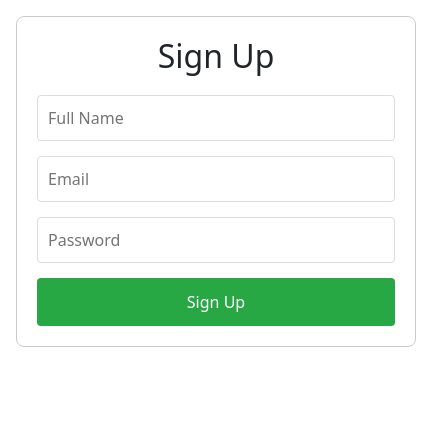
Signup Component › successfully submits form, displays success message, and redirects after timeout
In the field with placeholder "Full Name": {"x": 216, "y": 118} 37,95 -> 395,141, type "Jane Doe"
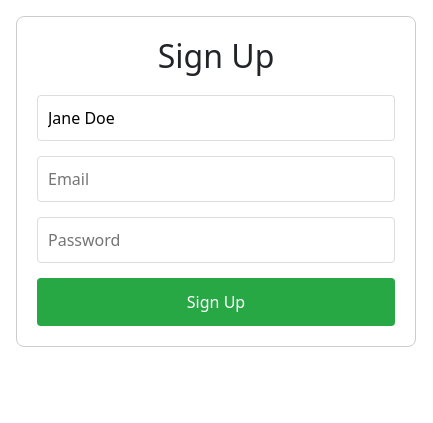
In the field with placeholder "Email": {"x": 216, "y": 179} 37,156 -> 395,202, type "jane@example.com"
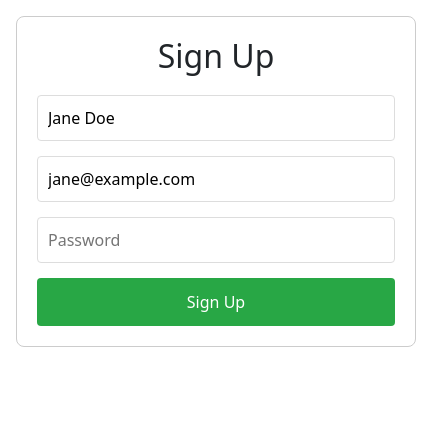
In the password field with placeholder "Password": {"x": 216, "y": 240} 37,217 -> 395,263, type "password123"
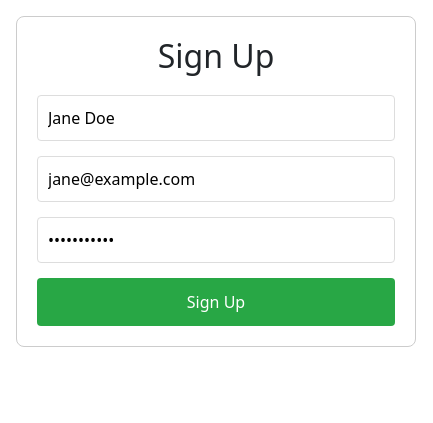
Click the button "Sign Up": {"x": 216, "y": 302} 37,278 -> 395,326
Wait 2000 ms
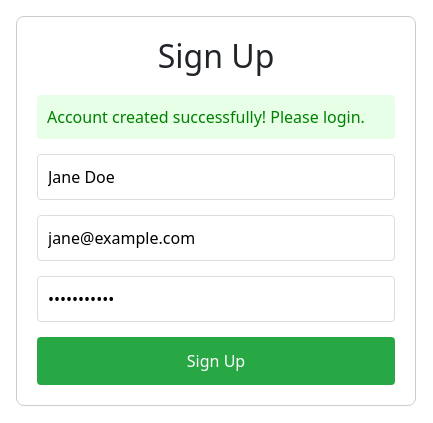
Check: the text "Account created successfully! Please login." is shown, box 37,95 -> 395,139
